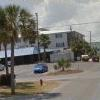Tree: (1, 0, 36, 59)
